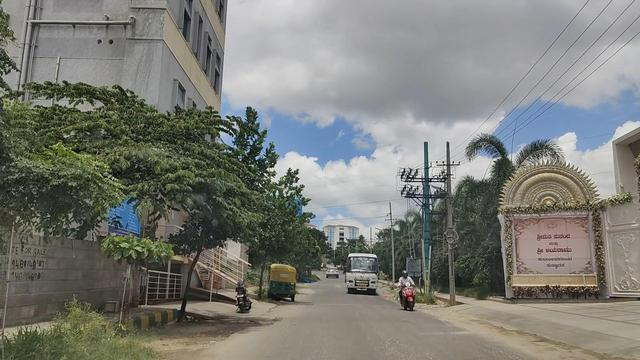HMV: (341, 253, 380, 298)
RoadDamages: (224, 312, 262, 331)
